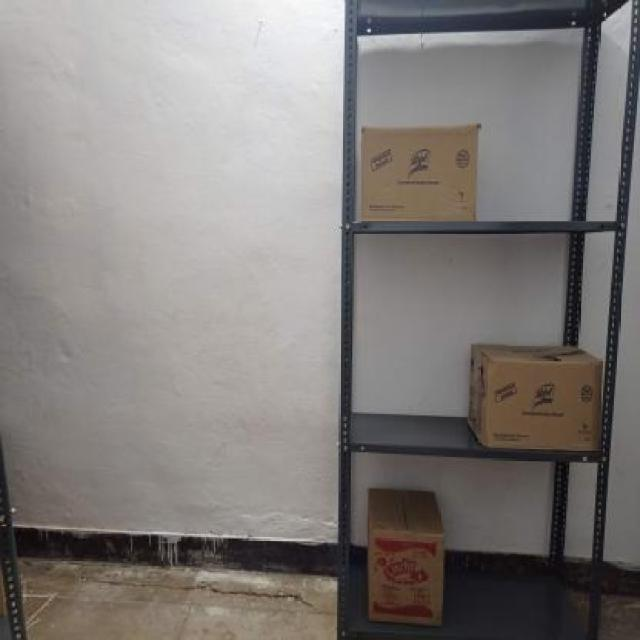box: (363, 128, 479, 224), (485, 358, 601, 453), (368, 534, 444, 622)
